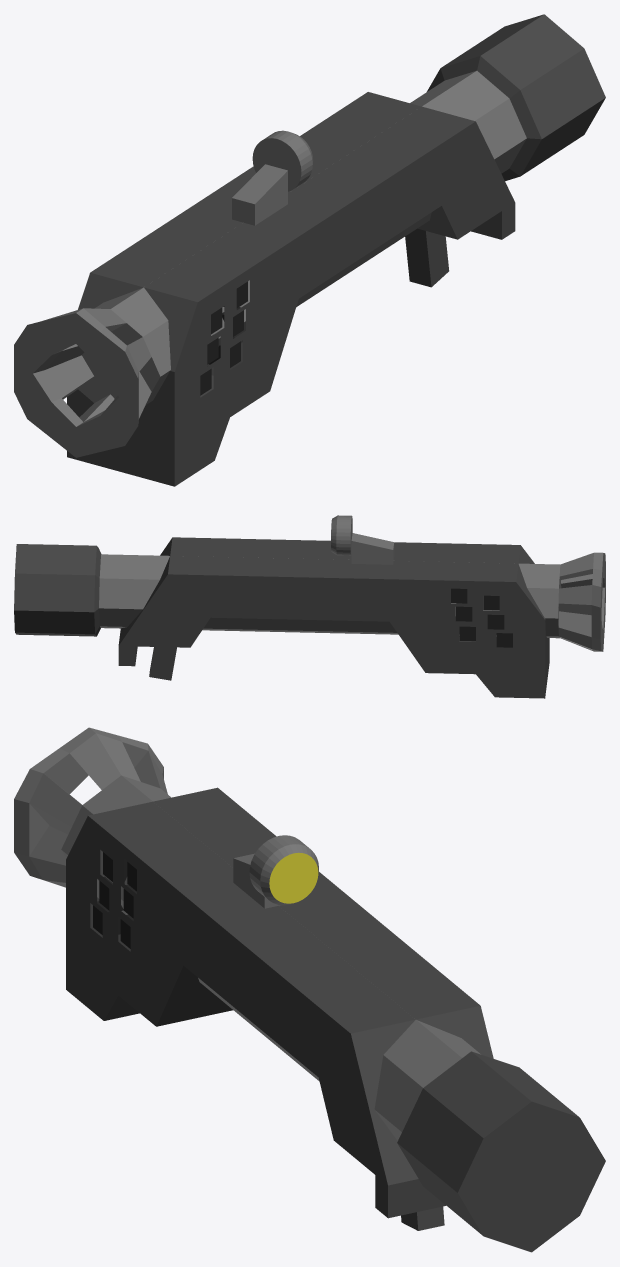
File: ItemBaz.fbx
The picture shows the model from 3 angles, top to bottom: view 1: azimuth 30°, elevation 25°; view 2: azimuth 150°, elevation 25°; view 3: azimuth 270°, elevation 25°; orthographic projection. The views are drawn at different scales.
Parts seen in each view (by area): view 1: 立方体; view 2: 立方体; view 3: 立方体.
Boxes of the visible parts, left/top/right/bottom form: 立方体: left=14, top=14, right=605, bottom=486; 立方体: left=14, top=515, right=605, bottom=698; 立方体: left=14, top=727, right=605, bottom=1252.
Bounding box in the file's own units: 16.06 × 5.08 × 10.06.
